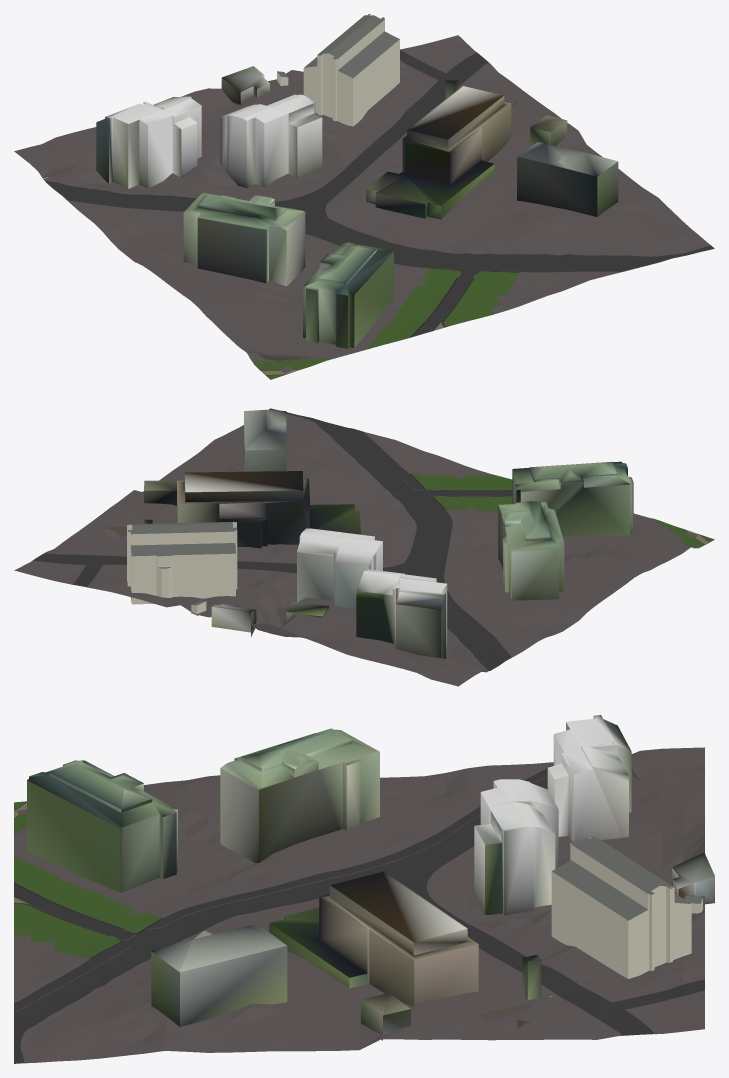
3 renders of one model, top to bottom at view 1: azimuth 30°, elevation 25°; view 2: azimuth 150°, elevation 25°; view 3: azimuth 270°, elevation 25°, orthographic. The views are drawn at different scales.
Visible parts, largest first — view 1: c_p02_p09; view 2: c_p02_p09; view 3: c_p02_p09.
Boxes of the visible parts, box(x1,y1,x2,y2) form: c_p02_p09: box(14, 14, 714, 379); c_p02_p09: box(14, 408, 714, 686); c_p02_p09: box(14, 715, 714, 1063).
Size of the model in its own units: 128 by 29.04 by 130.
